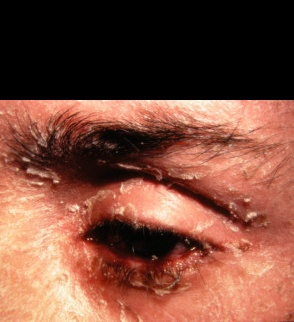SJS-TEN: (0, 94, 294, 322)
